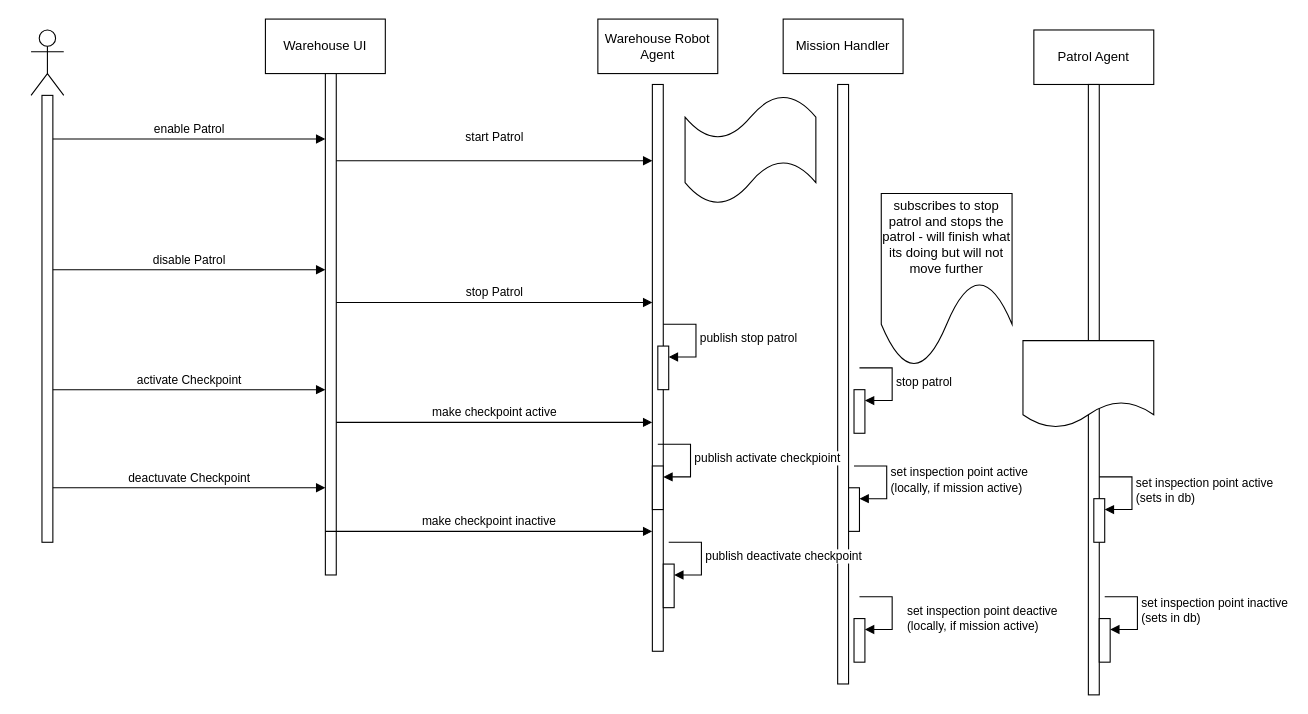
Image size: 1308x714. Some labels were removed from this diagram. The shapes that lost their labels are listed below. From the top down, each one's centre as x and y in pixels, then its label:
At point 47,62: "Controller".
At point 750,149: "Refer details in a separate flow".
At point 1088,384: "subscribes to active / deactivate checkpoint".
